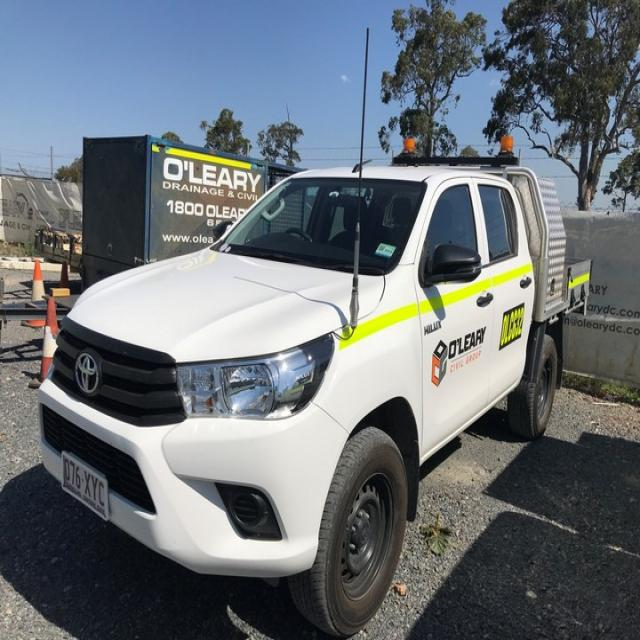light_vehicle: (38, 143, 590, 639)
